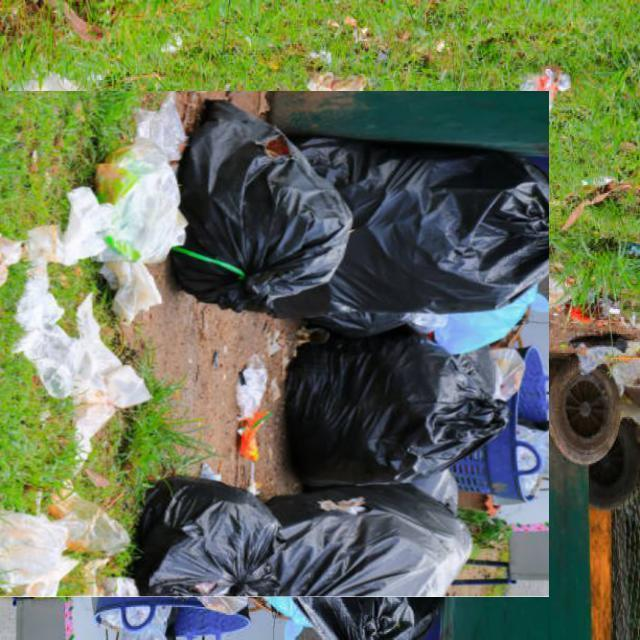Anorganik: (0, 68, 529, 619)
